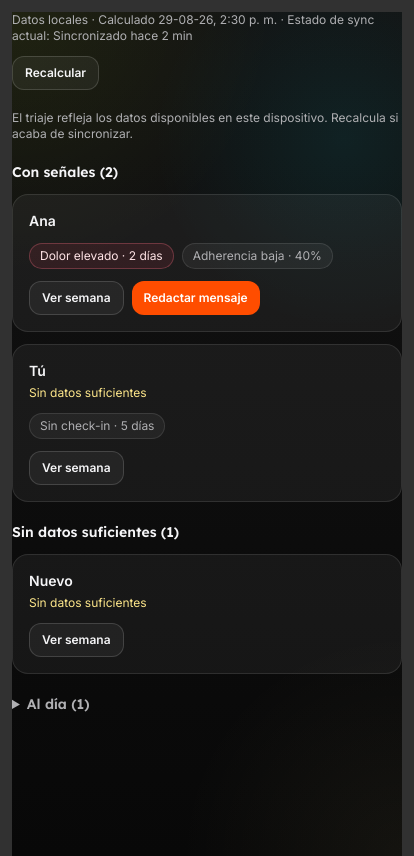
Test case: CoachAssistantPanel › quota deshabilita el botón y muestra el motivo
Click the button with test id "draft-ath_a".
click(196, 298)  # box [132,281,260,315]
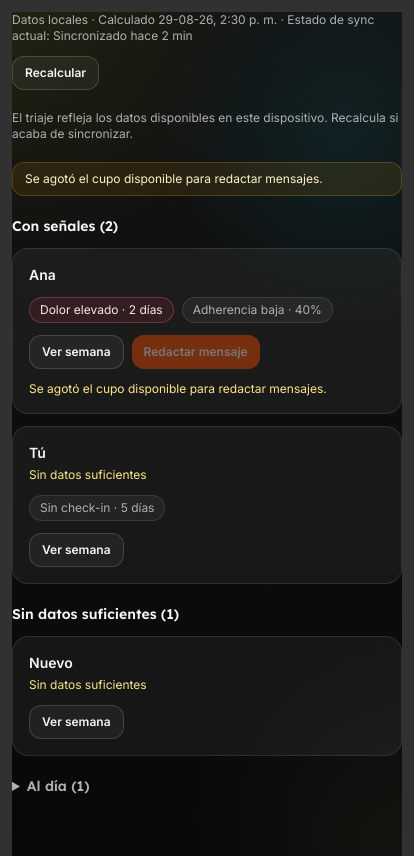
expect the element with test id "draft-error-ath_a" does not show "": met
expect the button with test id "draft-ath_a" is disabled: met, box [132,335,260,369]
